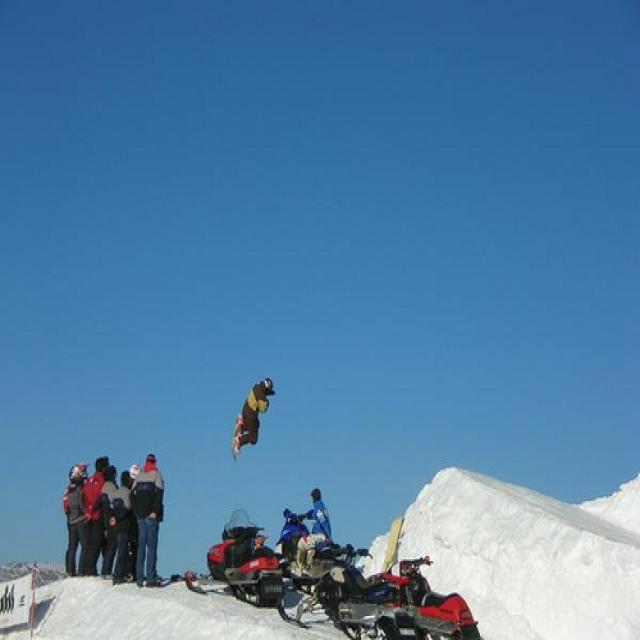motor: (382, 557, 480, 640)
